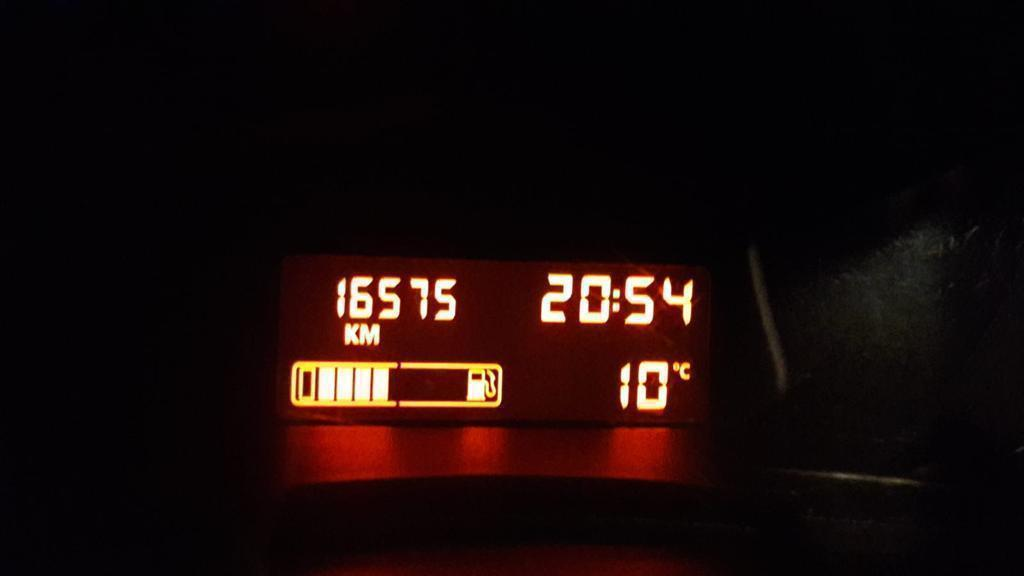0: (635, 360, 669, 412), (578, 274, 611, 324)
1: (618, 360, 631, 411), (335, 277, 347, 319)
2: (539, 272, 573, 323)
4: (661, 275, 694, 327)
5: (624, 275, 654, 325), (377, 276, 401, 320), (433, 278, 457, 321)
6: (349, 275, 374, 319)
7: (409, 277, 429, 321)
X: (359, 322, 381, 344), (343, 322, 359, 345), (611, 286, 621, 313), (679, 361, 691, 381)
odometer: (278, 248, 715, 427)
